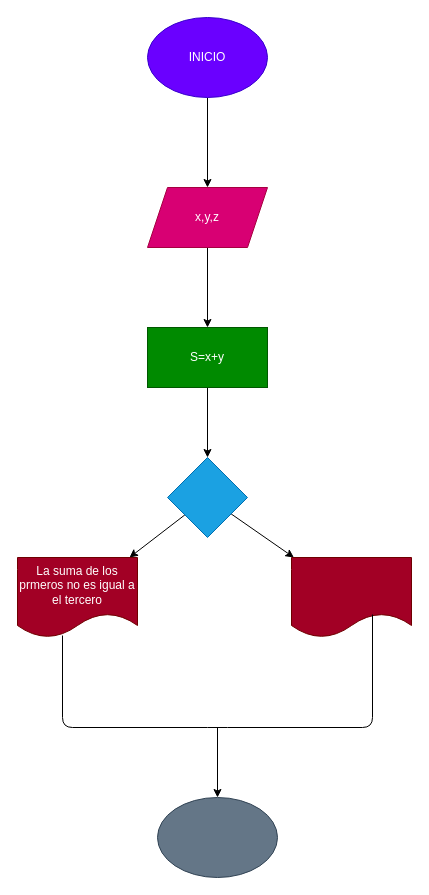
Image size: 429x895. Some labels were removed from this diagram. Here are the shapes that lost their labels. From the top down, the centre of each, then its label:
At [207,497]: "S==z".
At [217,837]: "FIN".
